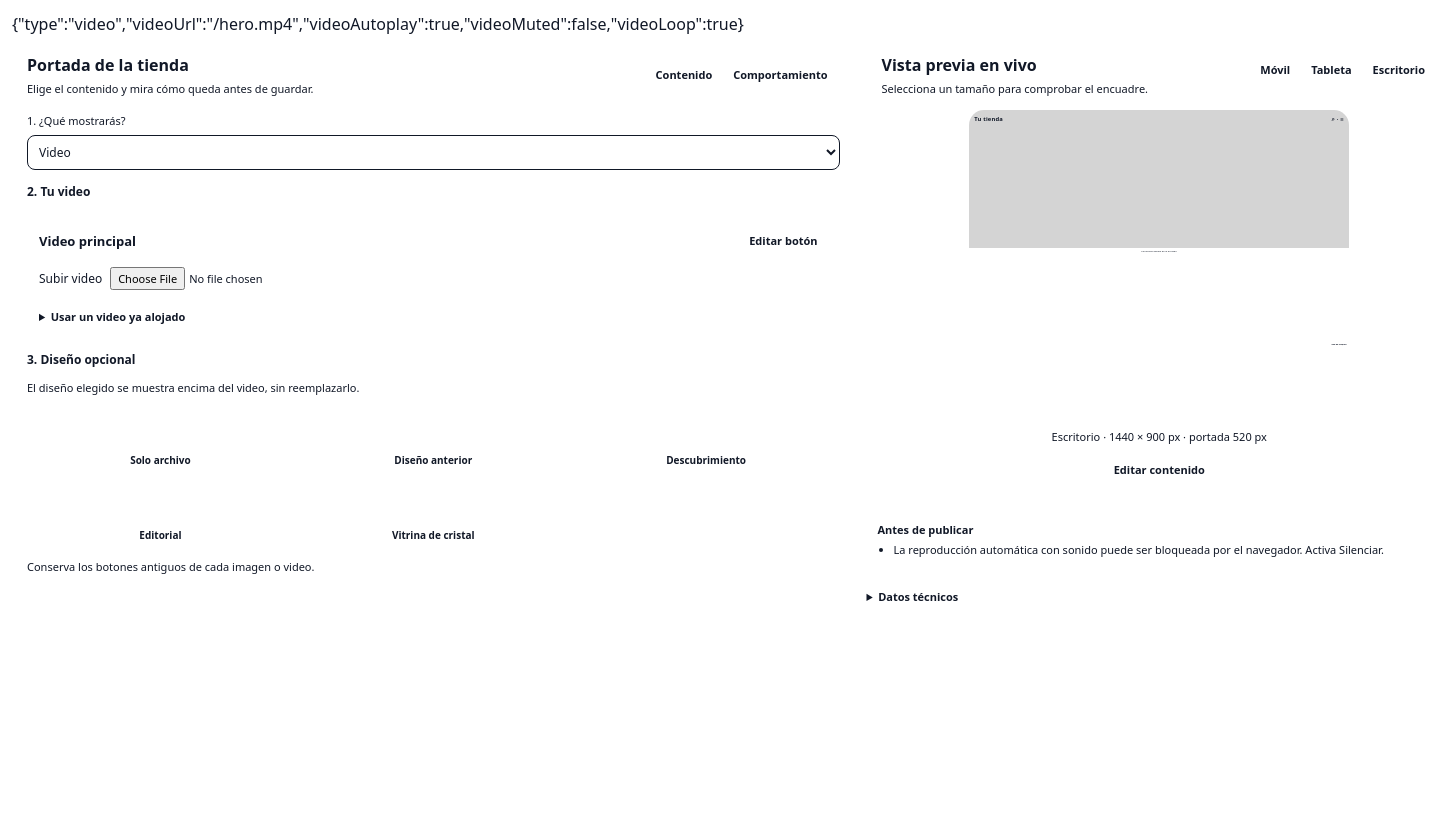
Test: editor de Portada › previsualiza un video y avisa cuando el autoplay con sonido puede fallar
Expected: the list item "reproducción automática con sonido puede ser bloqueada" is shown, top-left (894, 542), bottom-right (1384, 557)
Click the button "Comportamiento".
click(780, 75)  # box top-left (724, 60), bottom-right (836, 89)
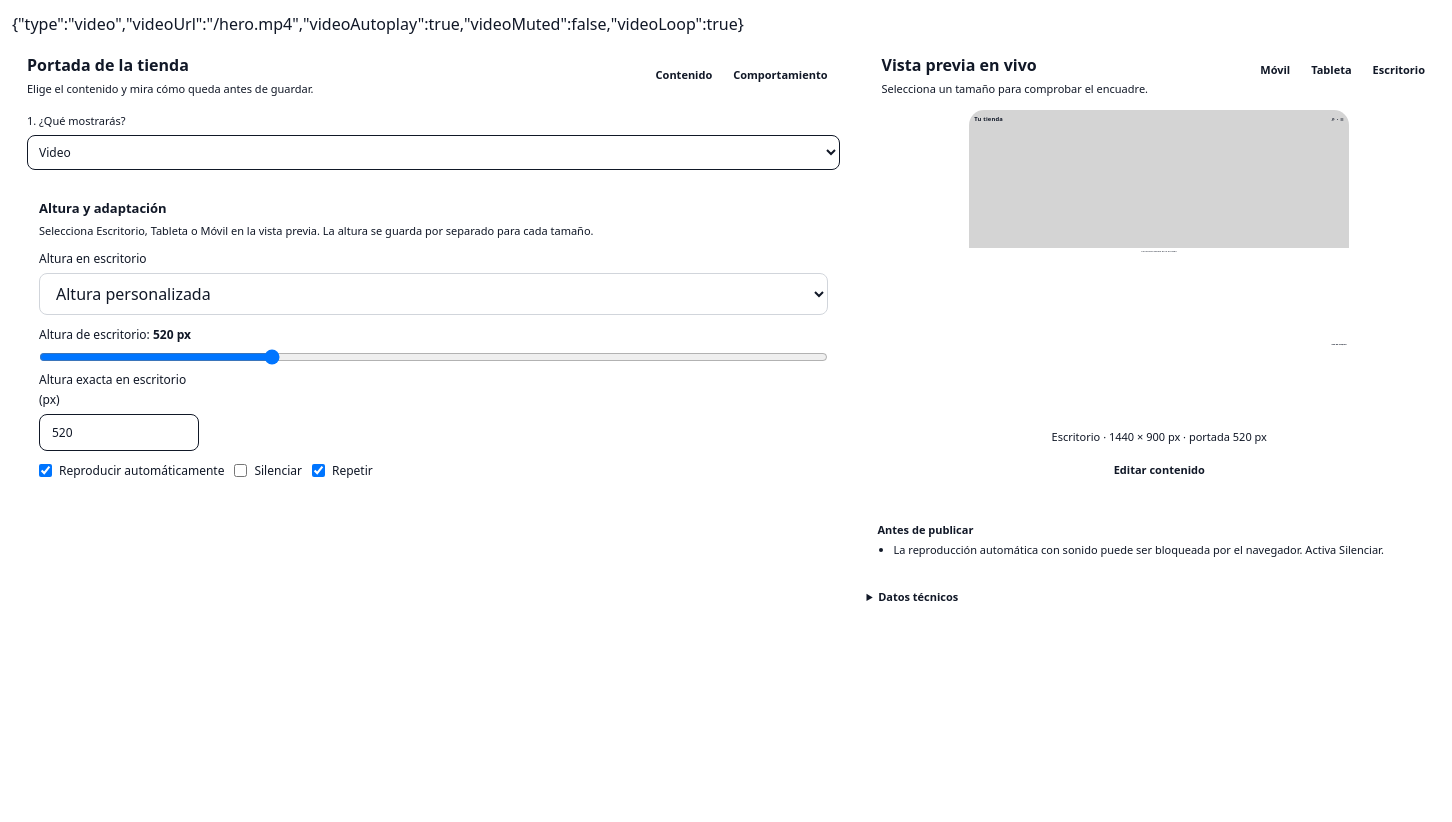
Click the checkbox labelled "Silenciar".
click(241, 470)  # box top-left (234, 464), bottom-right (247, 477)
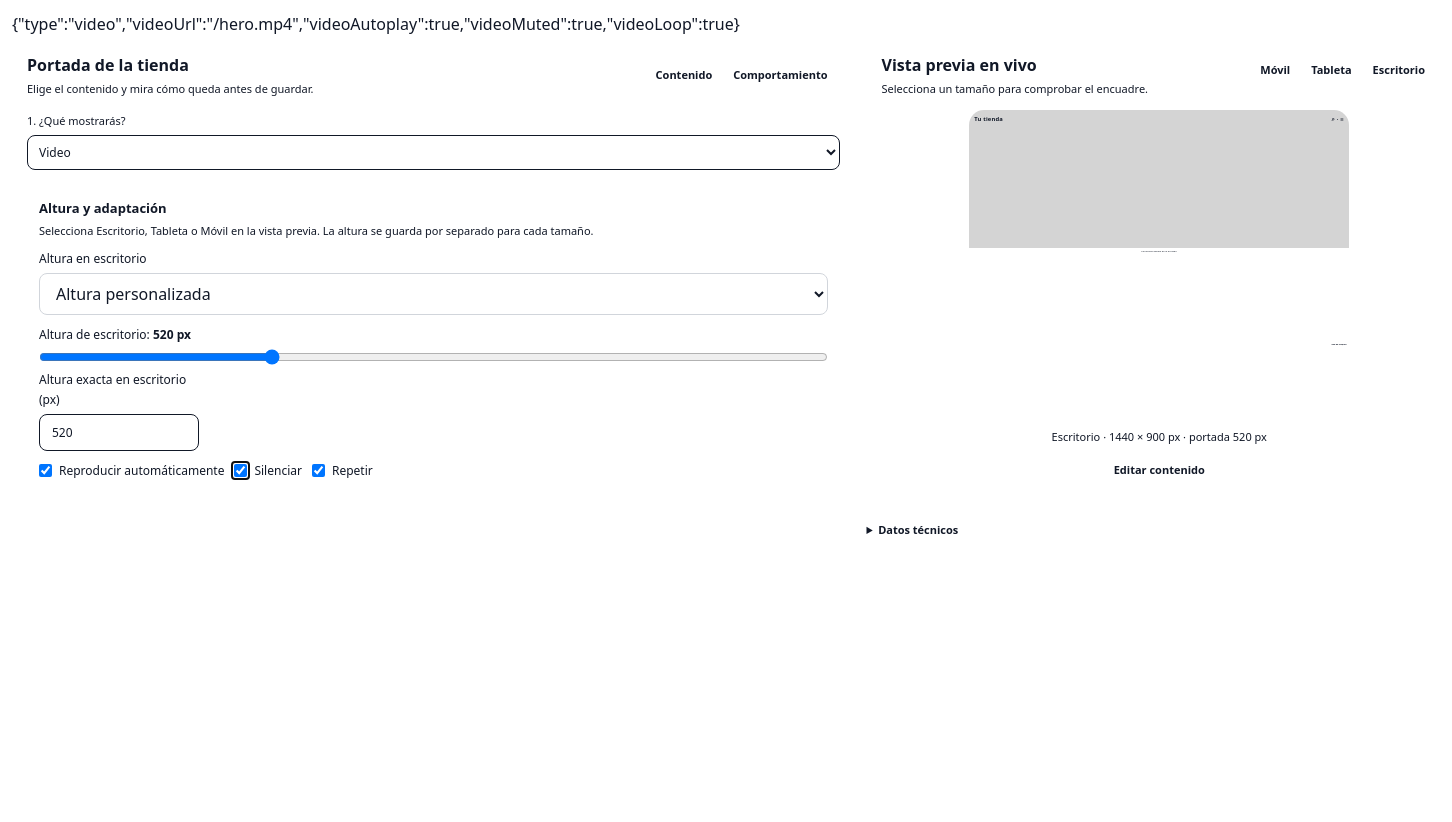
Now the list item "reproducción automática con sonido puede ser bloqueada" is gone
